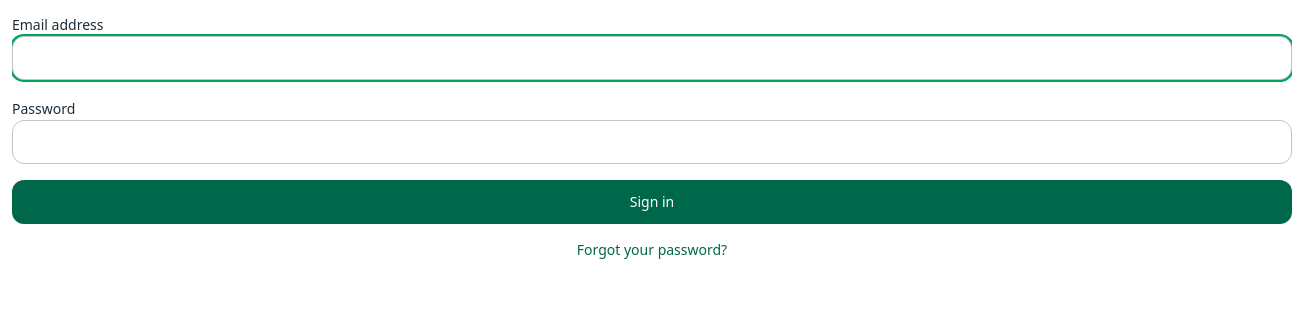
it: LoginForm › shows how many attempts remain after a wrong password
In the field labelled "Email address": (652, 58) [12,36,1292,80], type "a@b.co"
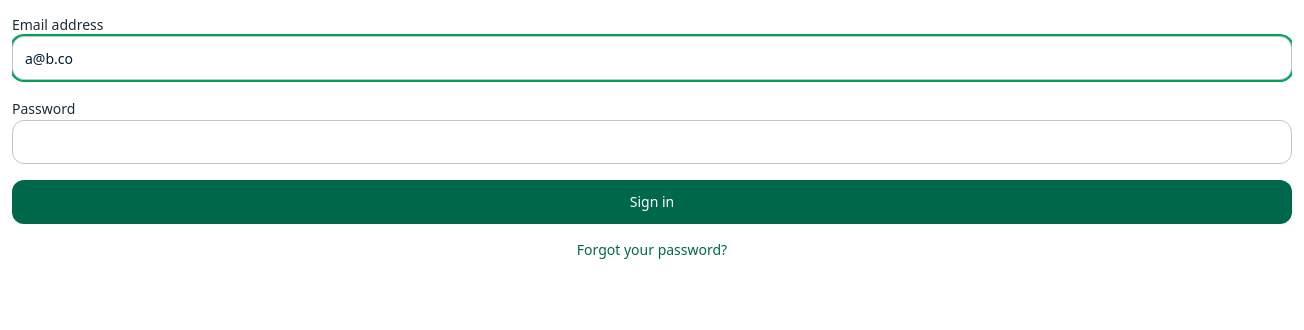
In the password field labelled "Password": (652, 142) [12,120,1292,164], type "wrong"
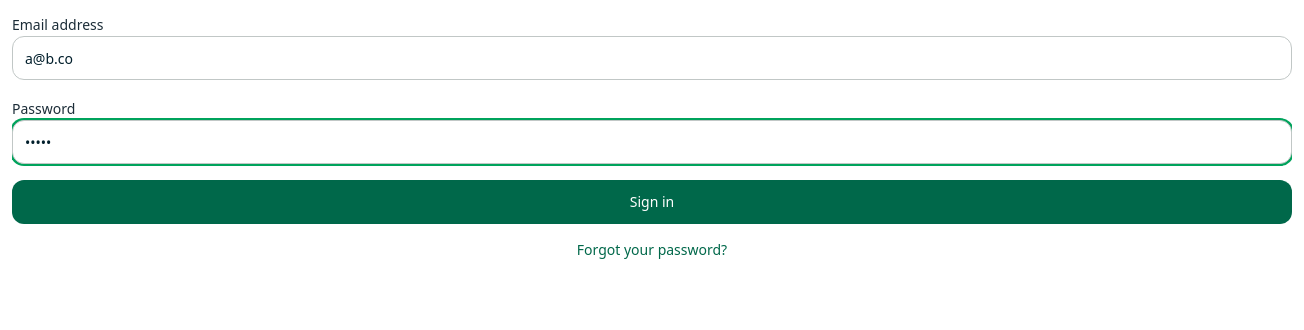
Click the button "Sign in": click(652, 202) [12,180,1292,224]
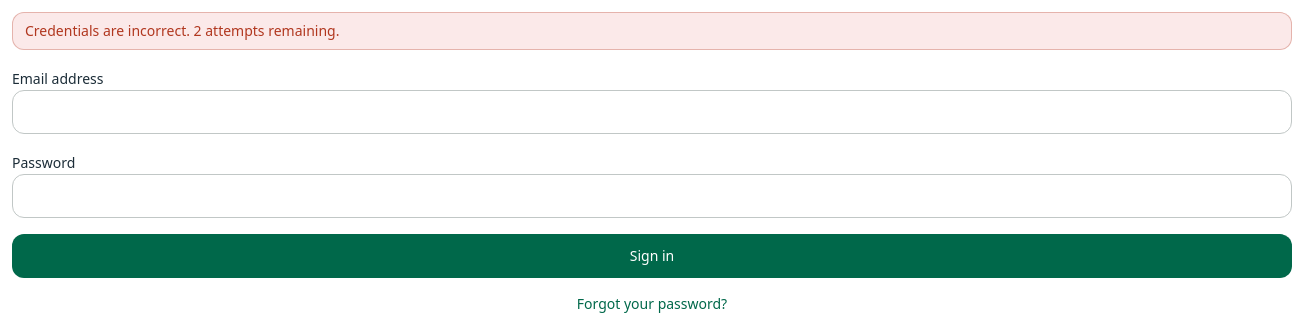
Result: the message reads "Credentials are incorrect. 2 attempts remaining." at [12,12,1292,50]
